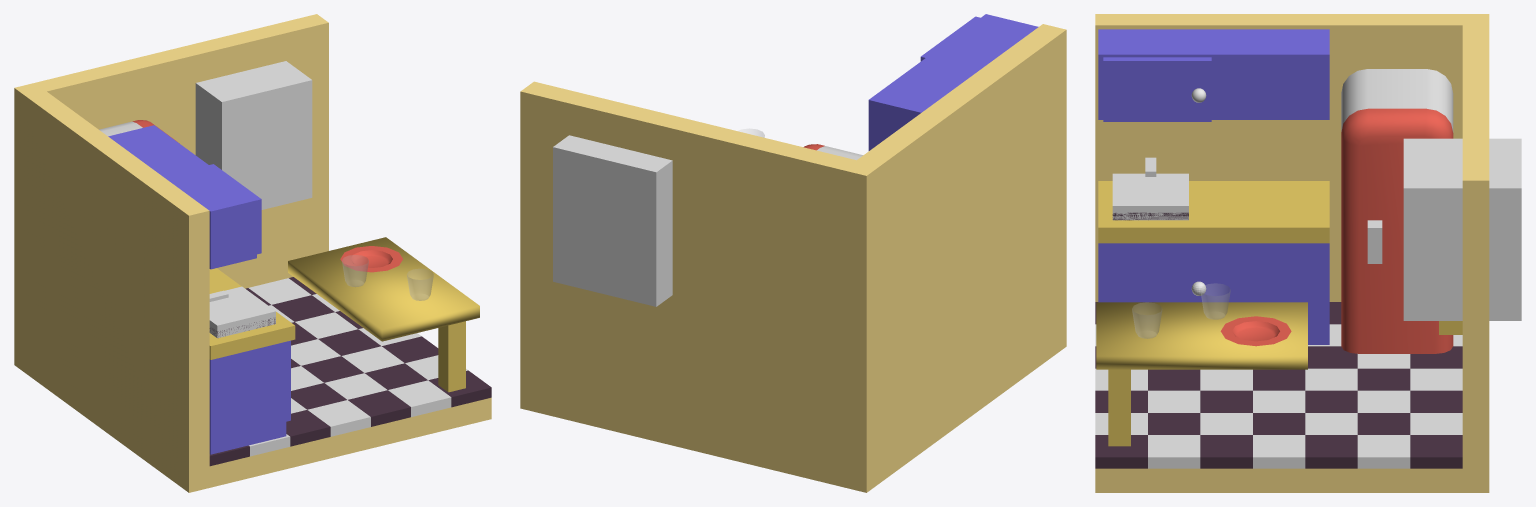
Rendered from 019-kitchen.glb.
3 views of the same model, side by side, from view 1: azimuth 30°, elevation 25°; view 2: azimuth 150°, elevation 25°; view 3: azimuth 270°, elevation 25° (orthographic). The views are drawn at different scales.
Visible parts, largest first — view 1: Plane, Plane.001, Cube.004, Plane.009, Plane.007, Plane.002, Plane.003, Cube, Plane.010, Circle.002, Circle, Circle.001 (+1 smaller); view 2: Plane, Cube.004, Plane.007; view 3: Plane, Plane.001, Plane.005, Cube.004, Plane.007, Plane.009, Plane.003, Plane.002, Plane.008, Plane.006, Plane.004, Cube (+6 smaller).
Part boxes in pixels (x1,y1,x2,y2): Plane: (14, 14, 491, 492); Plane.001: (209, 277, 491, 466); Cube.004: (195, 61, 312, 209); Plane.009: (288, 237, 479, 341); Plane.007: (108, 125, 256, 269); Plane.002: (209, 342, 286, 454); Plane.003: (209, 268, 295, 359); Cube: (209, 286, 275, 338); Plane.010: (438, 321, 465, 392); Circle.002: (340, 246, 402, 272); Circle: (407, 269, 433, 300); Circle.001: (342, 255, 368, 286); Plane: (520, 24, 1066, 492); Cube.004: (553, 135, 672, 306); Plane.007: (868, 14, 1038, 150); Plane: (1095, 14, 1489, 492); Plane.001: (1095, 302, 1462, 468); Plane.005: (1341, 108, 1453, 353); Cube.004: (1403, 138, 1521, 320); Plane.007: (1098, 29, 1329, 119); Plane.009: (1096, 302, 1307, 369); Plane.003: (1098, 181, 1329, 243); Plane.002: (1098, 243, 1329, 344); Plane.008: (1103, 57, 1211, 121); Plane.006: (1103, 243, 1211, 302); Plane.004: (1341, 69, 1453, 132); Cube: (1112, 173, 1188, 220).
Bounding box in the file's own units: 8 × 7 × 8.65.
